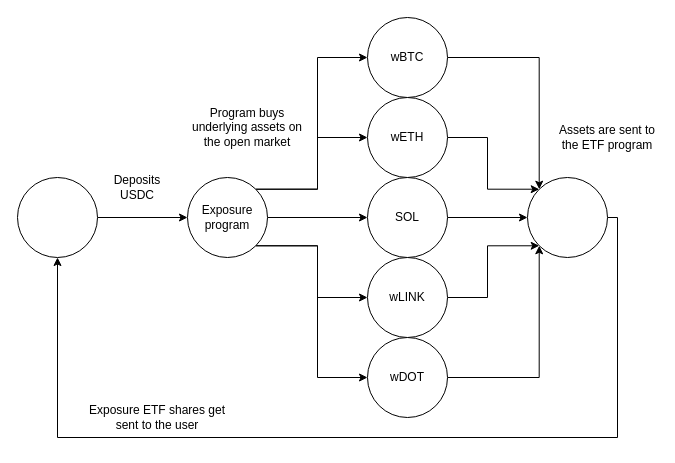
Image size: 675x463. Some labels were removed from this diagram. The shapes that lost their labels are listed below. From the top down, each one's centre as x and y in pixels, then its label:
At pixel 57 217: "user".
At pixel 567 217: "CRYPTO5 ETF".
